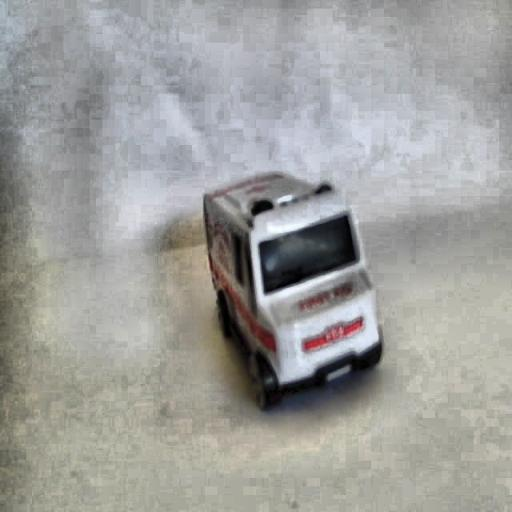ambulance: (202, 170, 382, 410)
